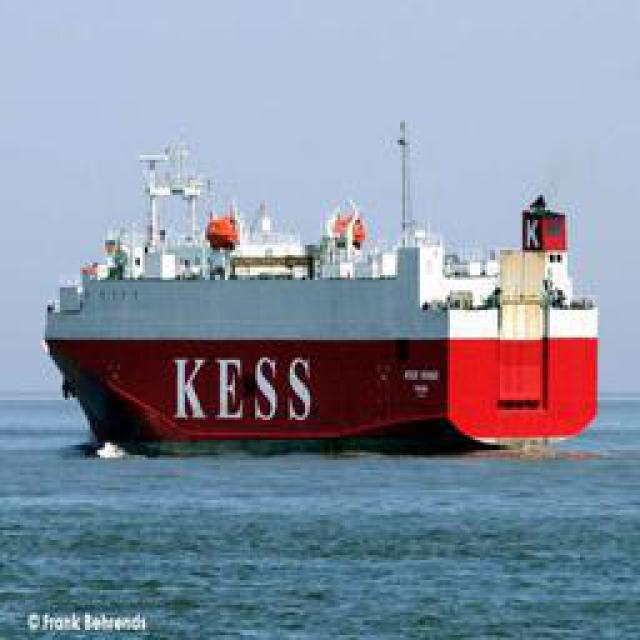Ship: (45, 113, 613, 451)
